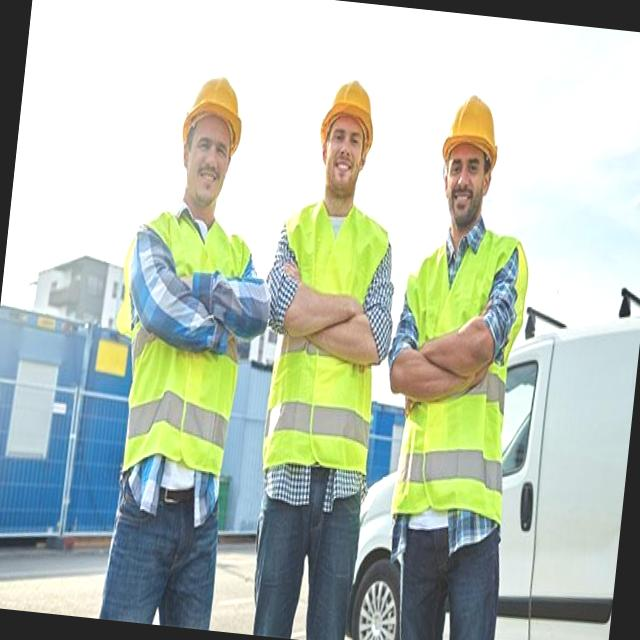helmet: (441, 92, 506, 164), (318, 72, 381, 136), (182, 75, 250, 132)
vest: (106, 202, 262, 500), (384, 225, 530, 530), (258, 194, 399, 483)
